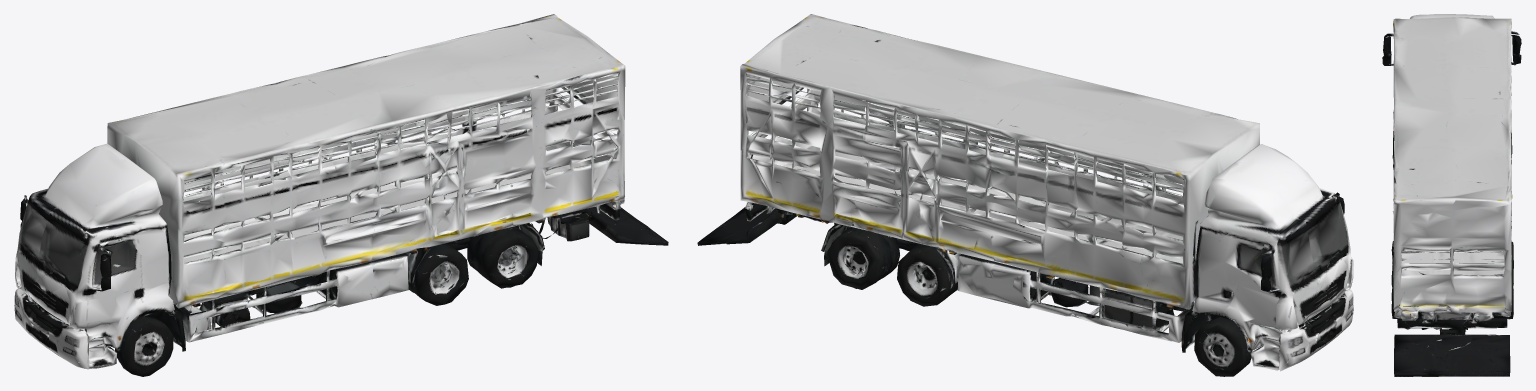
The model's file is livestock_truck.glb.
3 renders of one model, left to right at view 1: azimuth 30°, elevation 25°; view 2: azimuth 150°, elevation 25°; view 3: azimuth 270°, elevation 25°, orthographic. The views are drawn at different scales.
Size of the model in its own units: 1.9 by 0.6062 by 0.4636.
Materials: 1 (1 with a texture image).
